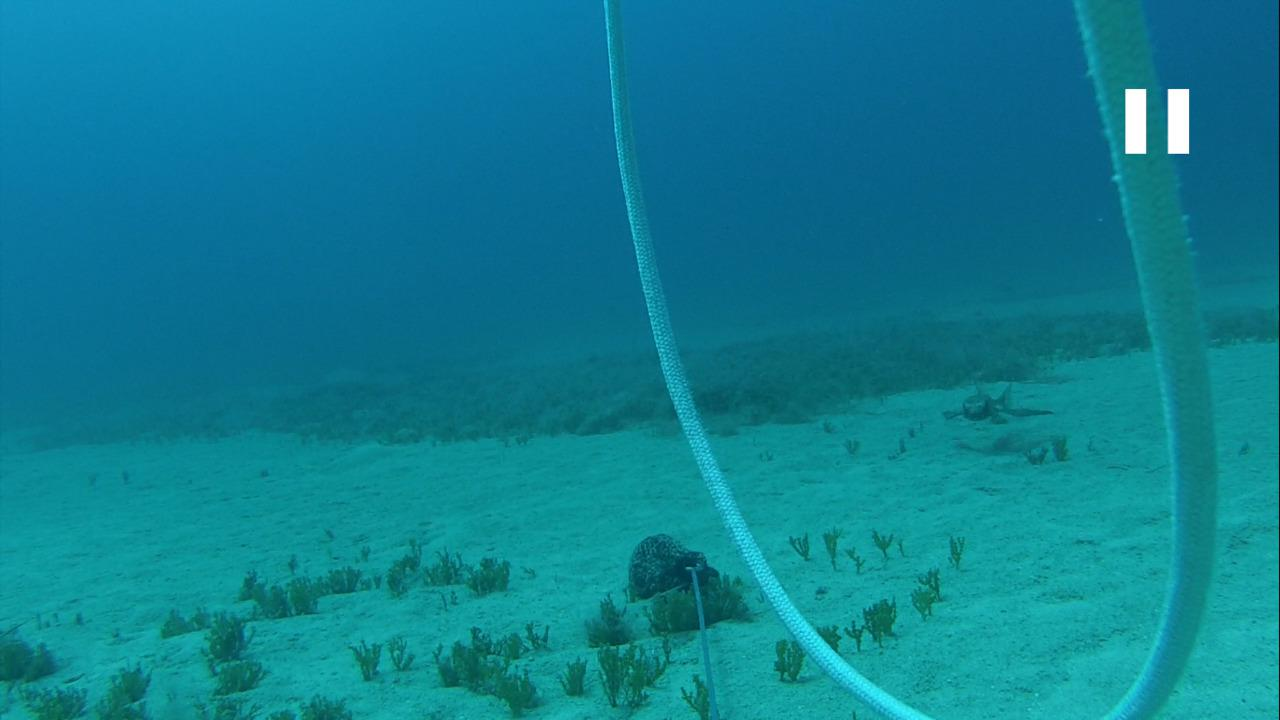dactylopterus: (938, 378, 1053, 429)
